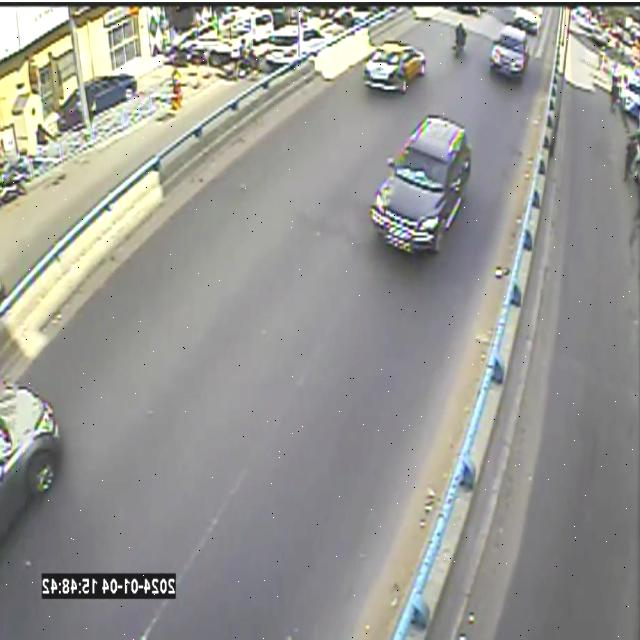car: (369, 116, 472, 252), (1, 382, 61, 534), (365, 41, 426, 93), (490, 27, 529, 79), (513, 7, 541, 35)
